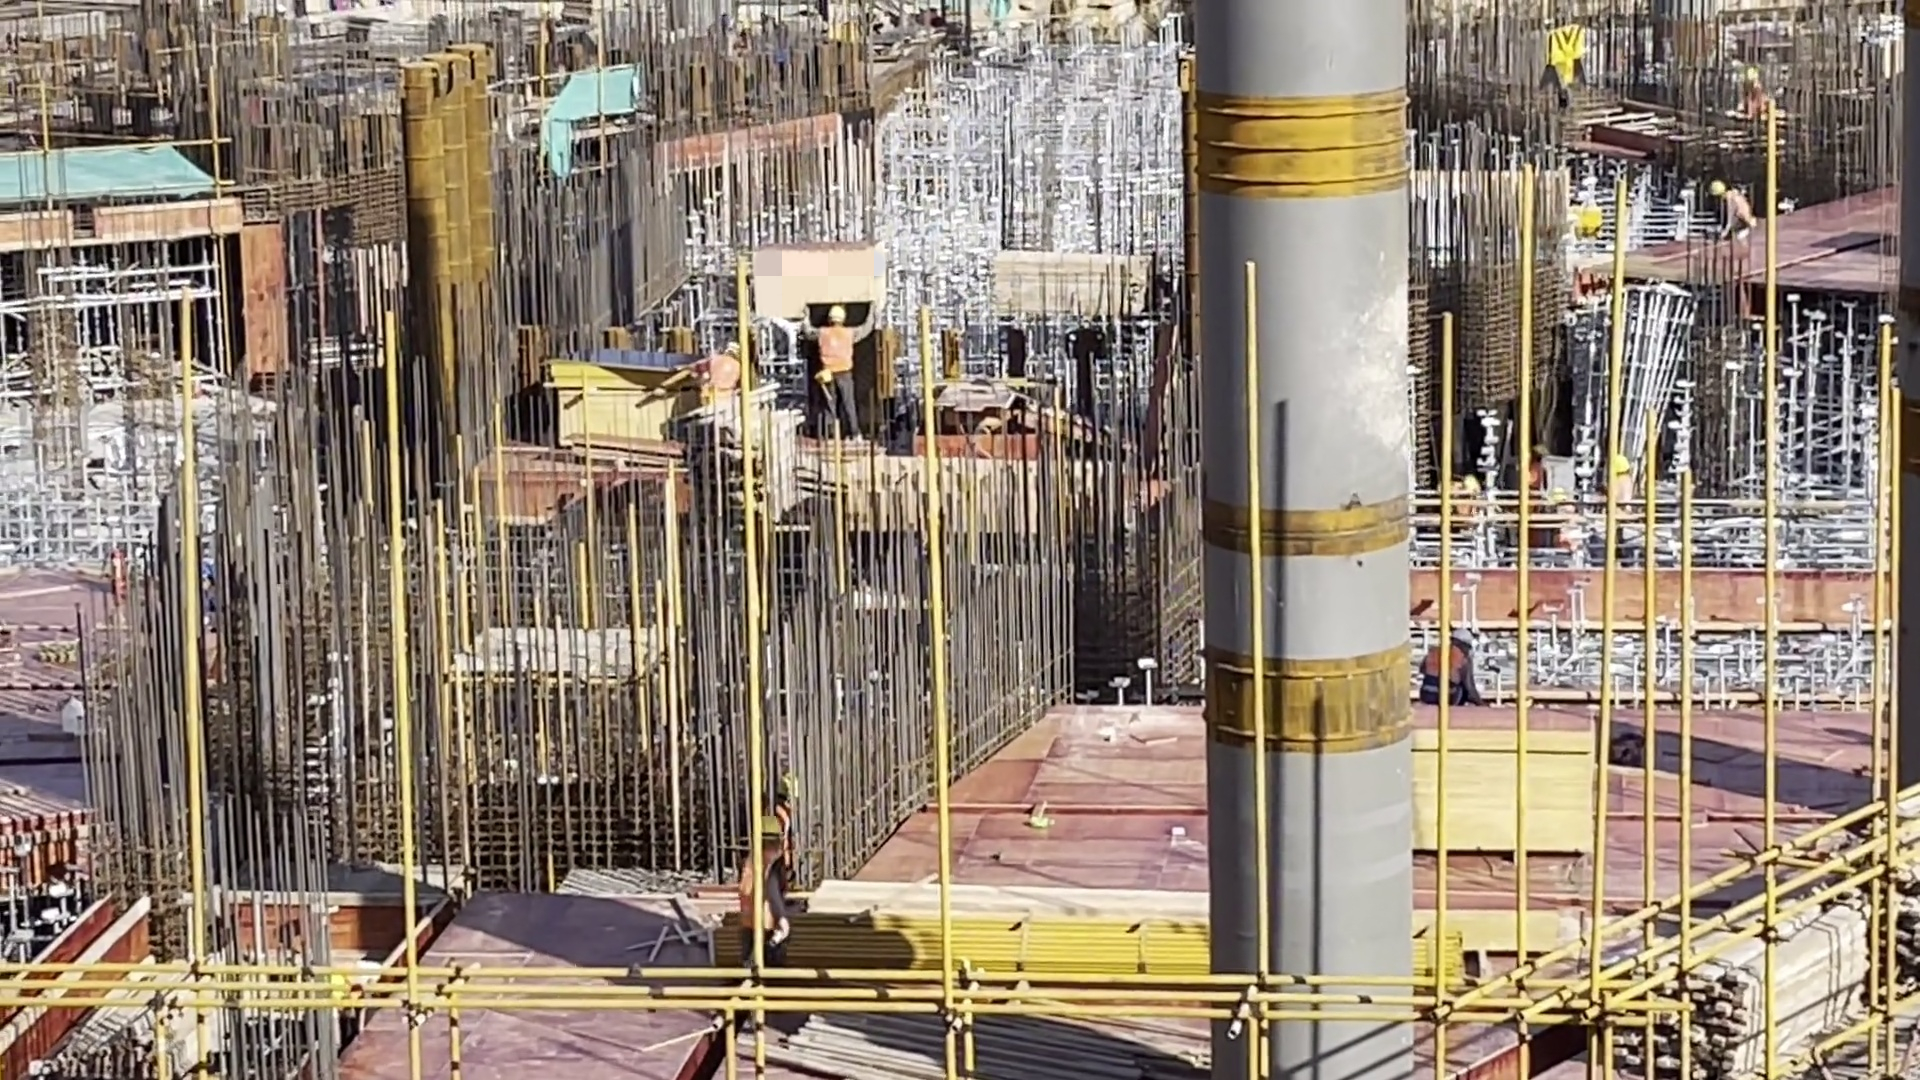helmet: (817, 297, 867, 331), (751, 808, 805, 835)
person: (728, 796, 790, 965), (815, 308, 878, 437)
vest: (736, 835, 792, 933), (811, 320, 852, 374)
